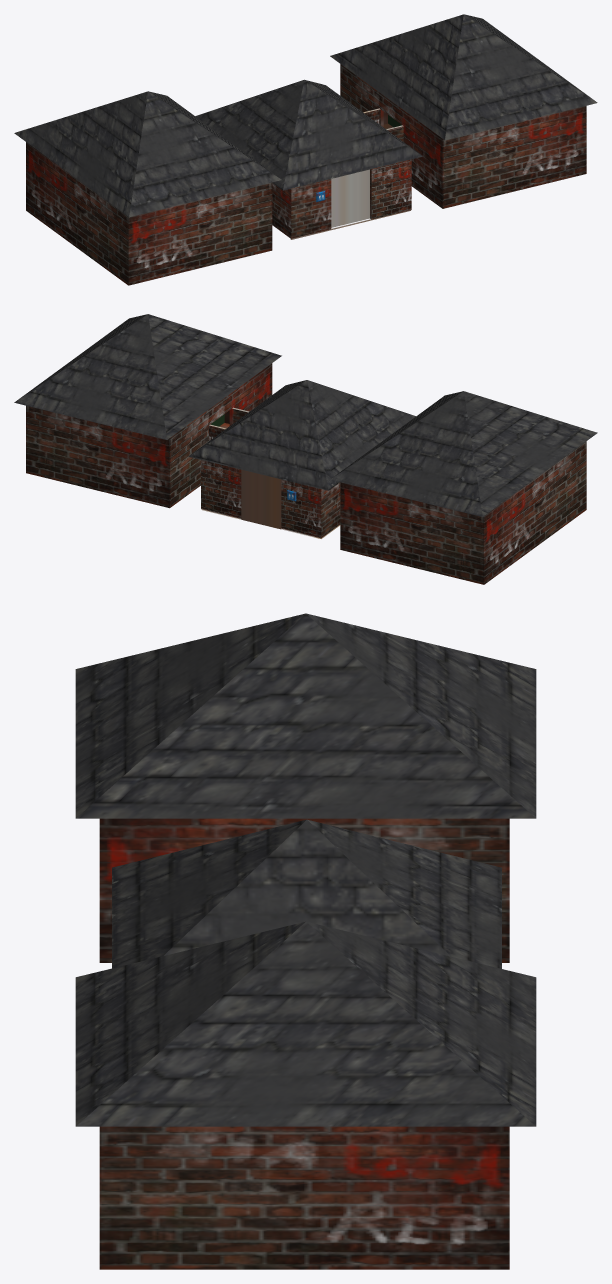
Rendered from bathroom 1.fbx.
3 views of the same model, one above another, from view 1: azimuth 30°, elevation 25°; view 2: azimuth 150°, elevation 25°; view 3: azimuth 270°, elevation 25° (orthographic). The views are drawn at different scales.
Visible parts, largest first — view 1: Plane.002, Cube.001, Plane.001, Cube; view 2: Plane.002, Cube.001, Plane.001, Cube; view 3: Plane.002, Cube.001, Plane.001.
Part boxes in pixels (x1,y1,x2,y2): Plane.002: [14, 14, 597, 217]; Cube.001: [26, 64, 586, 285]; Plane.001: [195, 79, 422, 190]; Cube: [272, 108, 411, 239]; Plane.002: [14, 314, 597, 516]; Cube.001: [26, 363, 586, 584]; Plane.001: [188, 380, 415, 490]; Cube: [201, 407, 340, 538]; Plane.002: [75, 613, 536, 1126]; Cube.001: [99, 818, 509, 1269]; Plane.001: [112, 819, 501, 968].
Bounding box in the file's own units: 10442 × 2963 × 4440.
